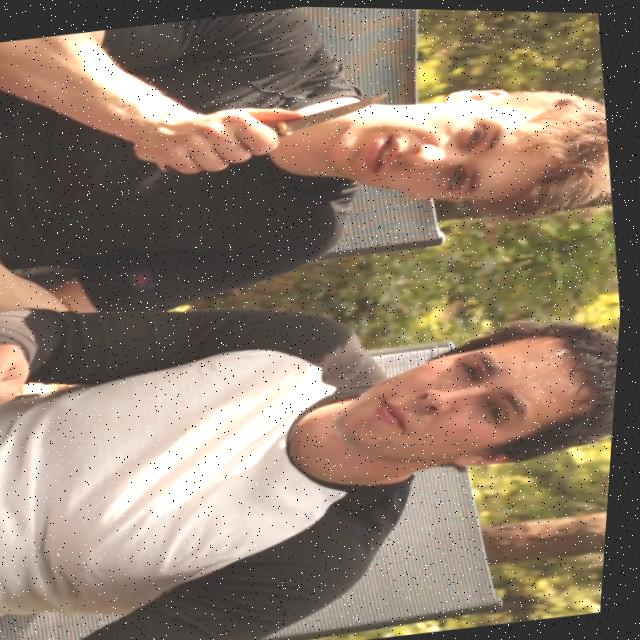knife: (269, 87, 395, 137)
